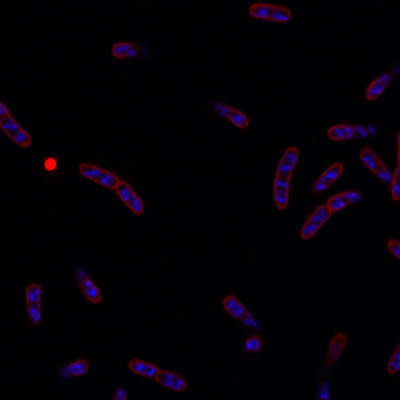Control: (76, 161, 145, 216), (298, 189, 366, 238), (129, 356, 188, 393), (271, 145, 302, 211), (247, 1, 293, 23)
Oblique: (221, 295, 266, 333), (68, 263, 104, 306), (308, 159, 345, 200), (205, 98, 250, 130), (362, 66, 400, 100), (325, 122, 387, 142), (320, 329, 348, 369), (24, 282, 45, 327), (57, 357, 90, 382), (110, 40, 146, 60), (245, 335, 263, 352)
